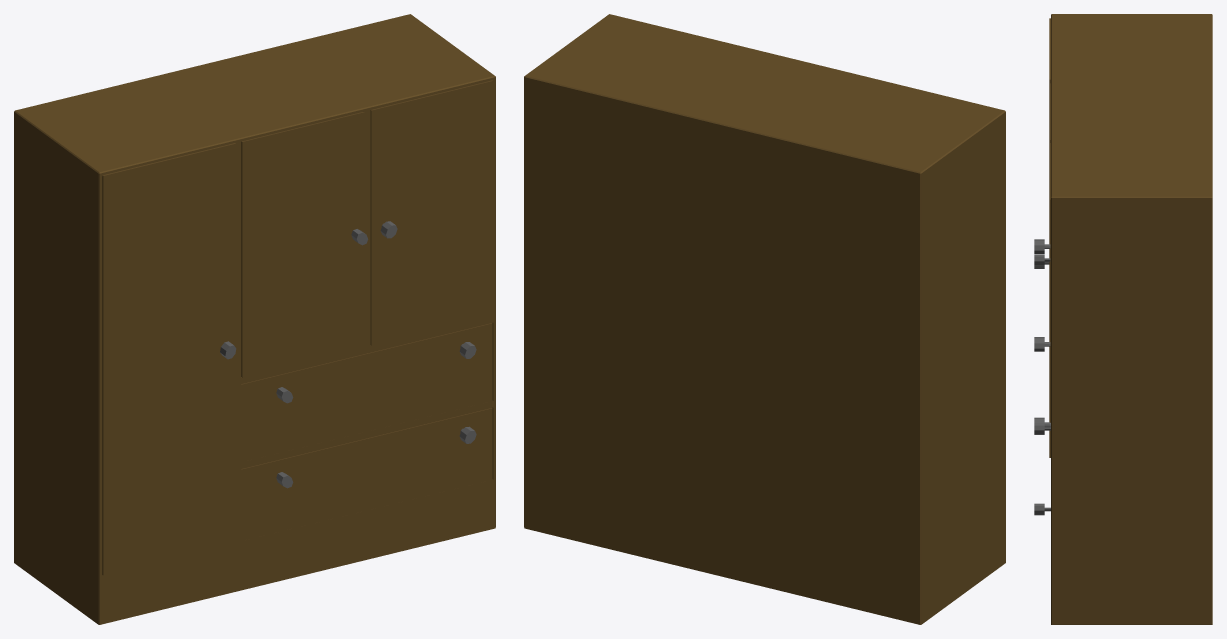
File: MediumWardrobe1.glb
3 renders of one model, left to right at view 1: azimuth 30°, elevation 25°; view 2: azimuth 150°, elevation 25°; view 3: azimuth 270°, elevation 25°, orthographic. The views are drawn at different scales.
Parts seen in each view (by area): view 1: MediumWardrobe1, ClosetDoorRight2_MediumWardrobe1, ClosetDoorRight1_MediumWardrobe1, ClosetDoorLeft1_MediumWardrobe1, Drawer1_MediumWardrobe1, Drawer2_MediumWardrobe1; view 2: MediumWardrobe1; view 3: MediumWardrobe1, ClosetDoorRight2_MediumWardrobe1, ClosetDoorLeft1_MediumWardrobe1, Drawer1_MediumWardrobe1, Drawer2_MediumWardrobe1.
Boxes of the visible parts, bbox=[...] form: MediumWardrobe1: bbox=[14, 14, 495, 624]; ClosetDoorRight2_MediumWardrobe1: bbox=[102, 143, 236, 575]; ClosetDoorRight1_MediumWardrobe1: bbox=[241, 112, 368, 377]; ClosetDoorLeft1_MediumWardrobe1: bbox=[370, 80, 493, 346]; Drawer1_MediumWardrobe1: bbox=[241, 323, 492, 462]; Drawer2_MediumWardrobe1: bbox=[241, 408, 492, 540]; MediumWardrobe1: bbox=[524, 14, 1005, 624]; MediumWardrobe1: bbox=[1051, 14, 1212, 624]; ClosetDoorRight2_MediumWardrobe1: bbox=[1034, 18, 1050, 457]; ClosetDoorLeft1_MediumWardrobe1: bbox=[1034, 143, 1050, 422]; Drawer1_MediumWardrobe1: bbox=[1034, 337, 1050, 434]; Drawer2_MediumWardrobe1: bbox=[1034, 417, 1050, 515].
Size of the model in its own units: 2.04 by 2.22 by 0.8393.
